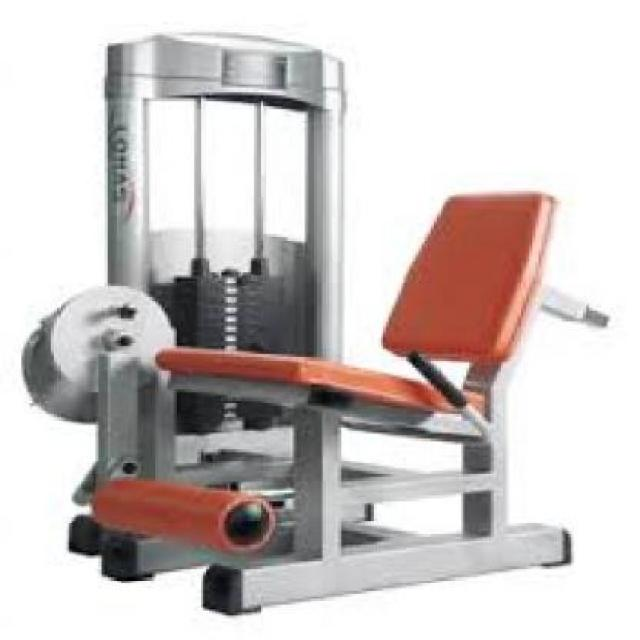leg extension: (12, 21, 614, 618)
